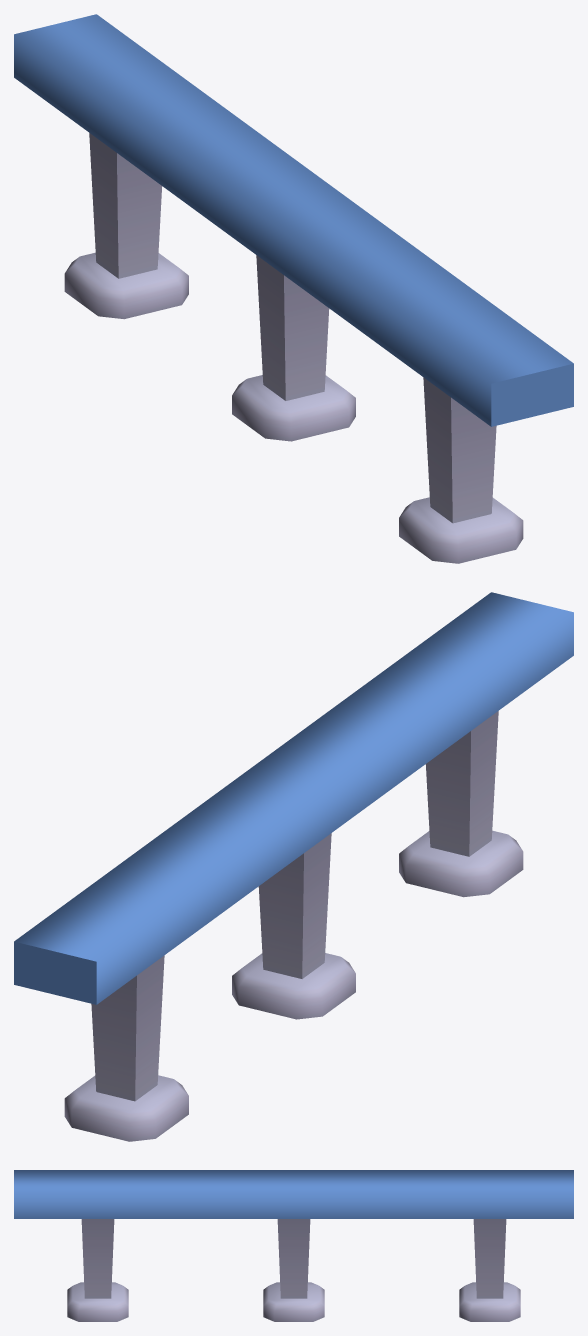
File: rail-low.glb
3 views of the same model, one above another, from view 1: azimuth 30°, elevation 25°; view 2: azimuth 150°, elevation 25°; view 3: azimuth 270°, elevation 25° (orthographic). The views are drawn at different scales.
Parts seen in each view (by area): view 1: rail-low; view 2: rail-low; view 3: rail-low.
Boxes of the visible parts, x1,y1,x2,y2 form: rail-low: (14,14,573,563); rail-low: (14,592,573,1141); rail-low: (14,1170,573,1321).
Bounding box in the file's own units: 0.11 × 0.25 × 1.
1 material, 1 textured.
